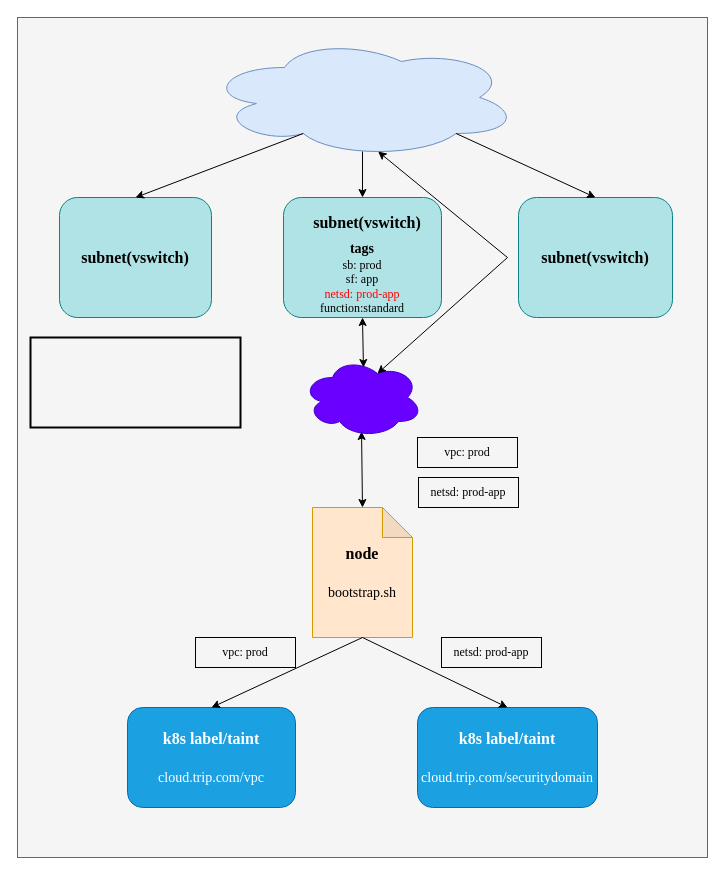
The diagram is 725 pixels wide and 875 high, and some of its shapes have lost their labels. The centre of each missing label's shape, as x and y in pixels:
cloud-provider openapi: point (362, 397)
sb: security boundary sf: security function netsd: network securitydomain: point (135, 382)
vpc tags vpc: prod/tooling/pci: point (362, 97)
